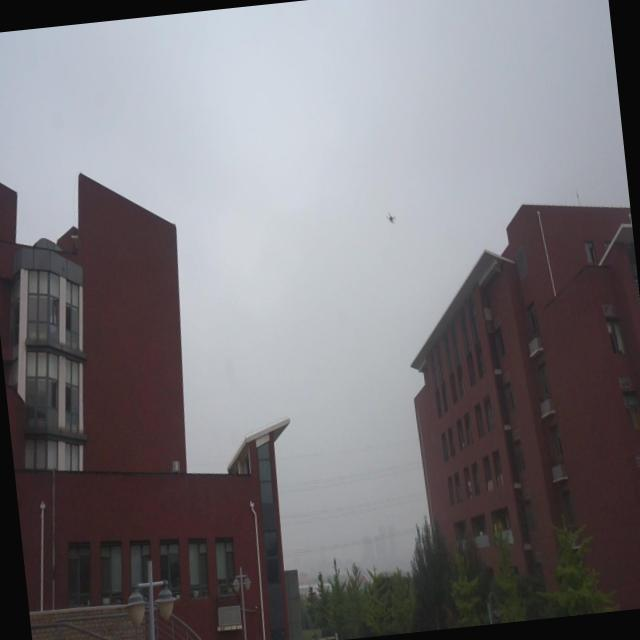drone: (383, 206, 397, 226)
